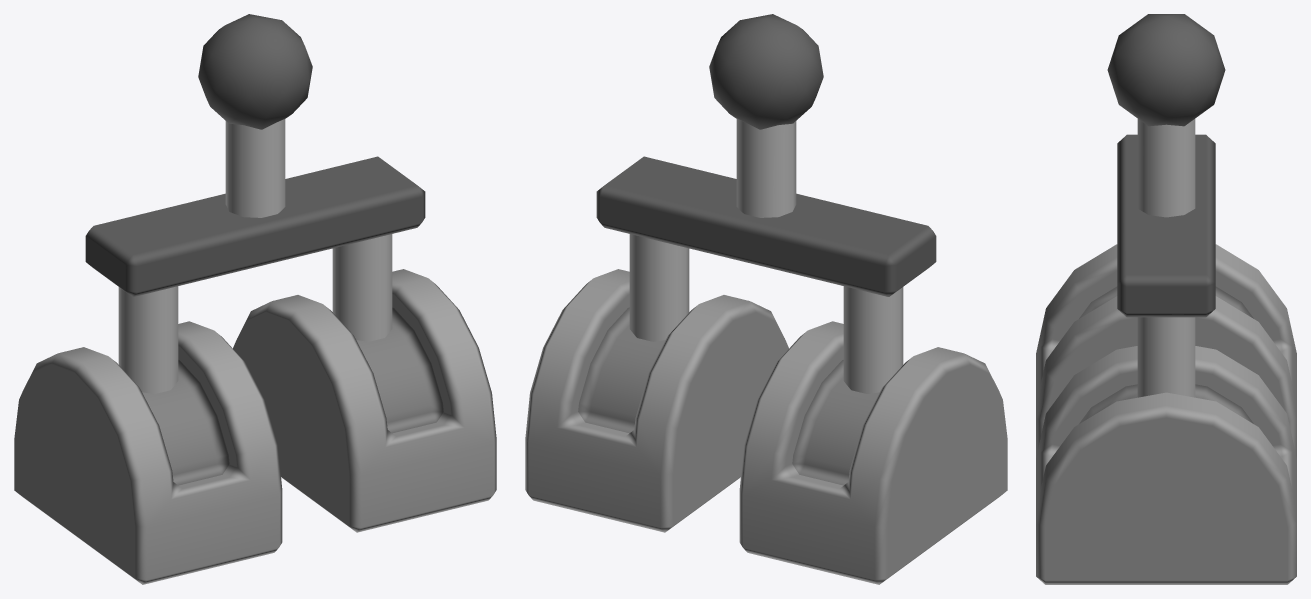
The model's file is Switch_Double.fbx.
3 renders of one model, left to right at view 1: azimuth 30°, elevation 25°; view 2: azimuth 150°, elevation 25°; view 3: azimuth 270°, elevation 25°, orthographic.
Parts seen in each view (by area): view 1: Switch_Bases, Switch Grip.001; view 2: Switch_Bases, Switch Grip.001; view 3: Switch_Bases, Switch Grip.001.
Part boxes in pixels (box(x1,y1,x2,y2)): Switch_Bases: box(14, 269, 496, 584); Switch Grip.001: box(85, 14, 425, 393); Switch_Bases: box(525, 269, 1007, 584); Switch Grip.001: box(596, 14, 936, 393); Switch_Bases: box(1036, 244, 1296, 584); Switch Grip.001: box(1107, 14, 1225, 397).
Bounding box in the file's own units: 67.59 × 85.66 × 41.9.
